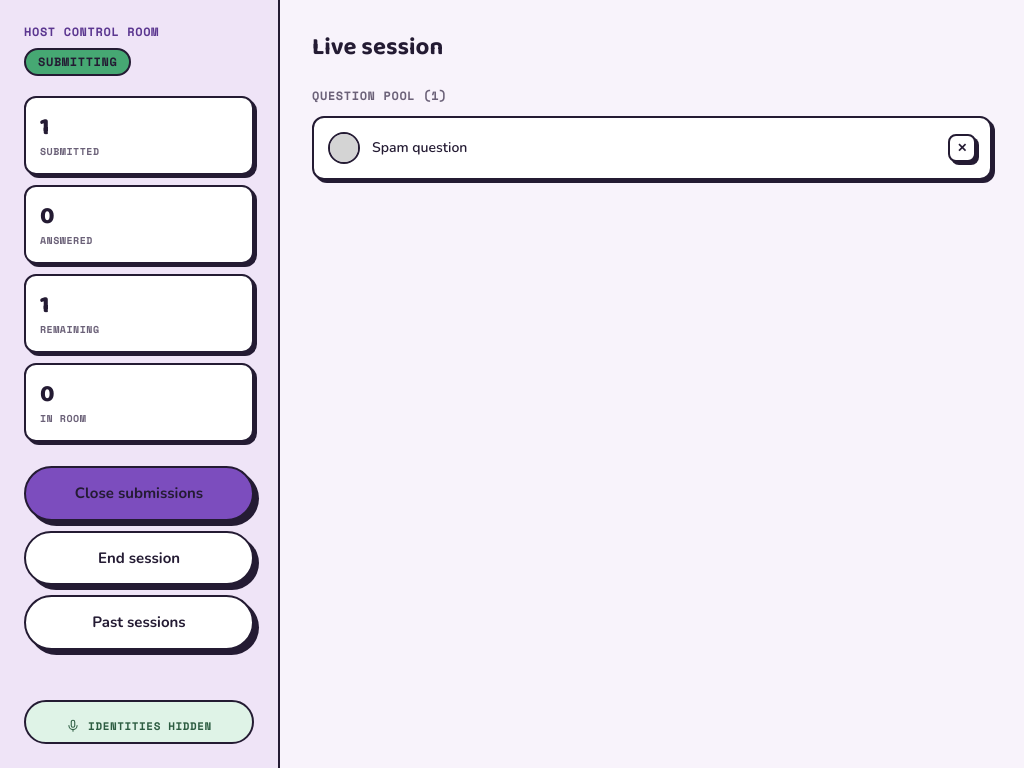
Test: HostControlView question moderation › deletes the question in Firestore and drops it from the pool when confirmed
What coordinates should you click on to do the following:
click the button named "Remove question"
I would click on:
 (962, 148)
Its box is [948,134,976,162].
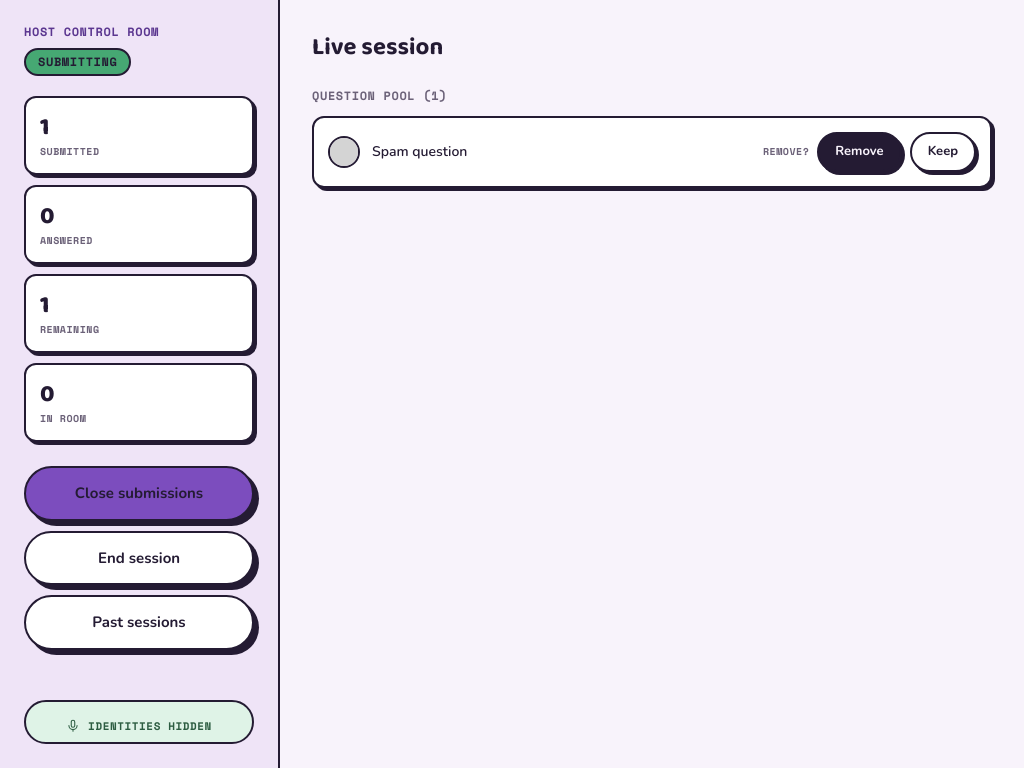
What coordinates should you click on to do the following:
click the button "Remove"
I would click on:
 (859, 152)
Its box is [817,132,902,172].
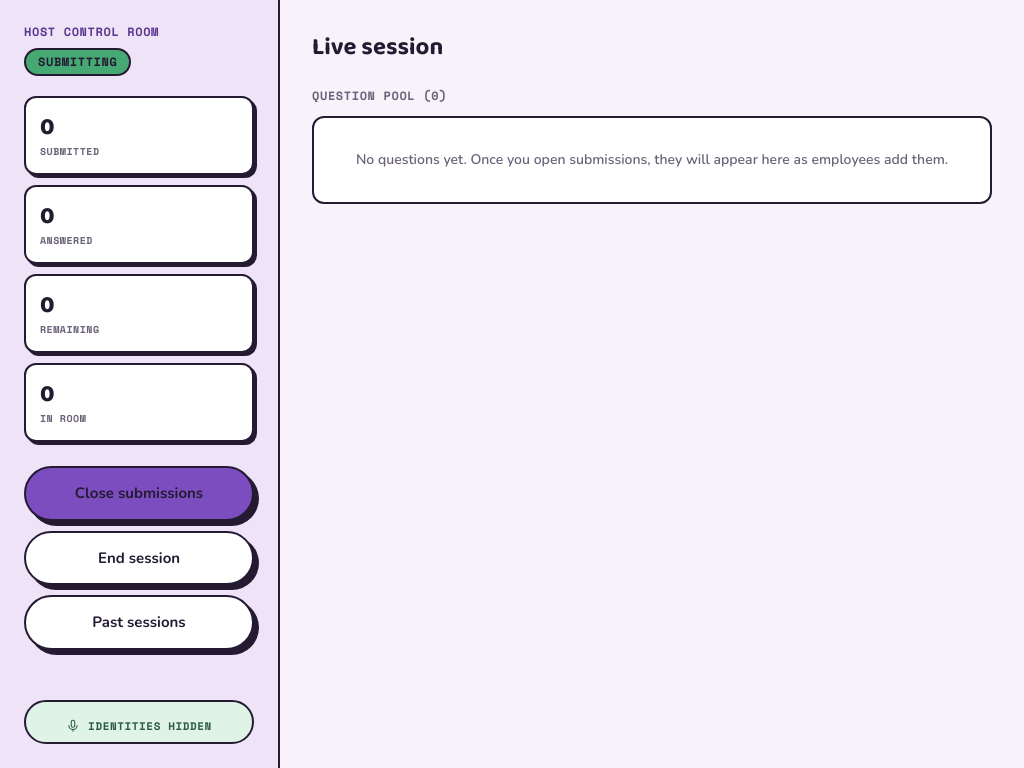
Expected: the text "Spam question" is gone
